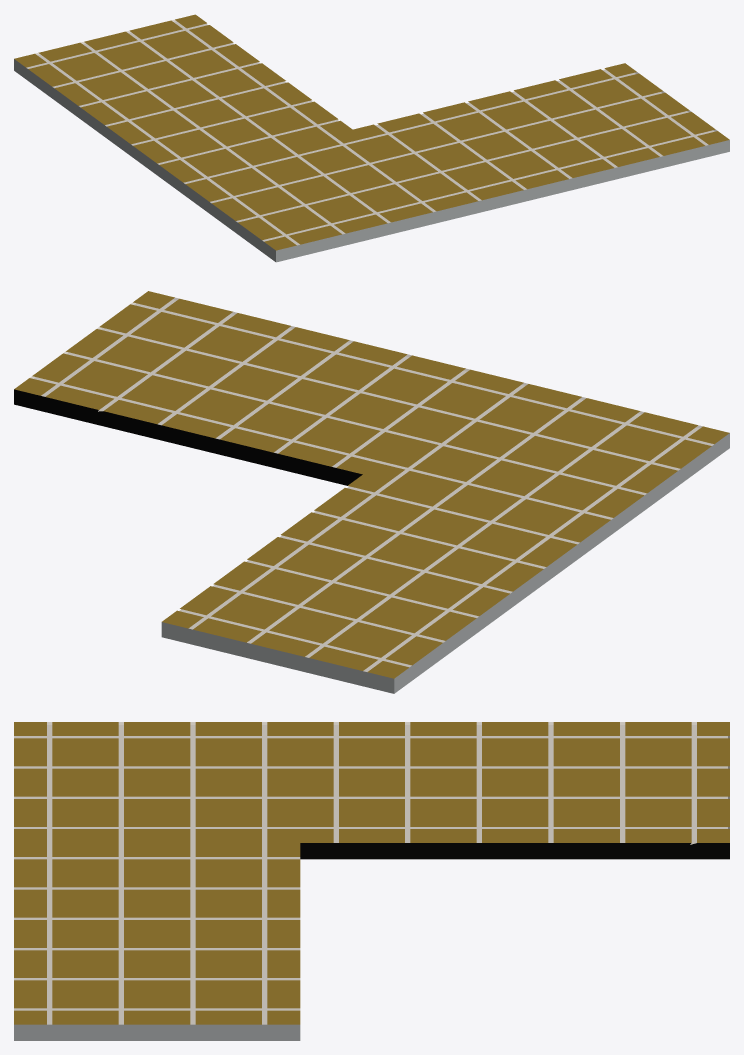
Rendered from floor_2.glb.
The picture shows the model from 3 angles, top to bottom: view 1: azimuth 30°, elevation 25°; view 2: azimuth 150°, elevation 25°; view 3: azimuth 270°, elevation 25°; orthographic projection. The views are drawn at different scales.
Visible parts, largest first — view 1: mesh_0; view 2: mesh_0; view 3: mesh_0.
Part boxes in pixels (bbox=[...]): mesh_0: bbox=[14, 14, 729, 262]; mesh_0: bbox=[14, 291, 729, 693]; mesh_0: bbox=[14, 722, 729, 1040].
Bounding box in the file's own units: 2 × 0.05 × 2.
